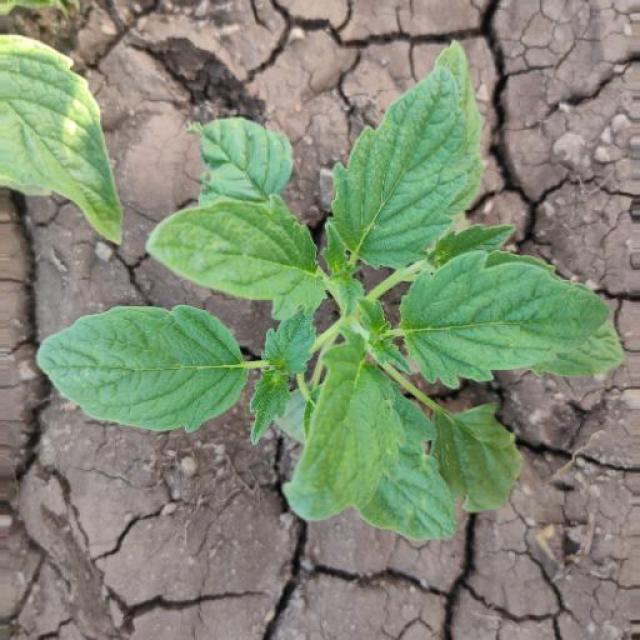crop: (40, 21, 628, 546)
